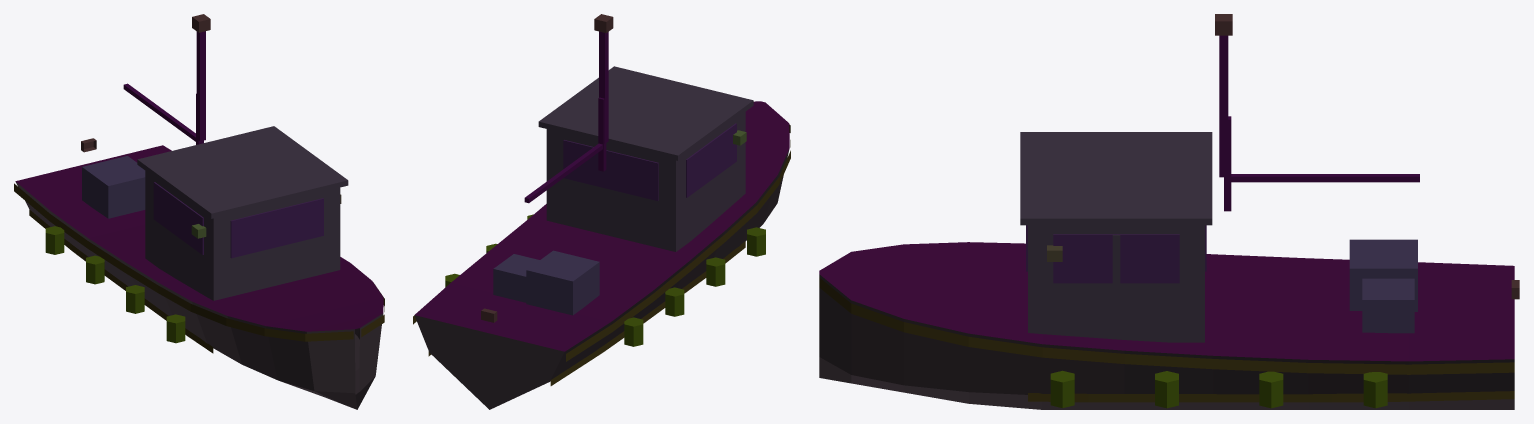
File: boat_work_b.glb
3 renders of one model, left to right at view 1: azimuth 30°, elevation 25°; view 2: azimuth 150°, elevation 25°; view 3: azimuth 270°, elevation 25°, orthographic. The views are drawn at different scales.
Visible parts, largest first — view 1: boat_work_b; view 2: boat_work_b; view 3: boat_work_b.
Part boxes in pixels (x1=…): boat_work_b: x1=14, y1=14, x2=384, y2=409; boat_work_b: x1=413, y1=14, x2=790, y2=409; boat_work_b: x1=819, y1=14, x2=1519, y2=409.
Bounding box in the file's own units: 4.6 × 6.84 × 11.08.
